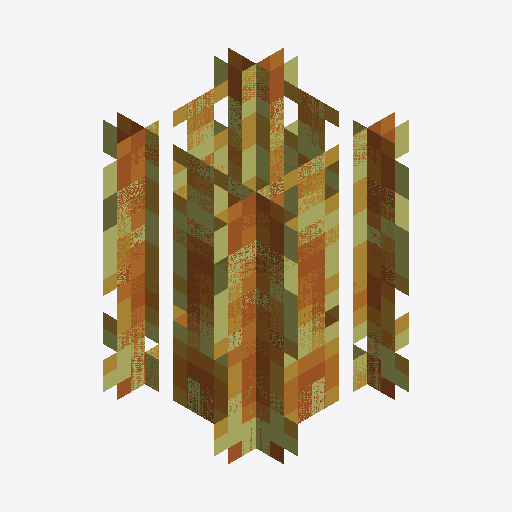
A Minecraft block model of 4 cuboids, rendered isometrically (azimuth 45°, elevation 35.3°) with the resource pack's own textures.
Parts seen in each view (by area): element 1, element 4, element 2, element 3.
Part boxes in pixels (left/top/right/bottom): element 1: left=103, top=112, right=297, bottom=463; element 4: left=214, top=112, right=408, bottom=463; element 2: left=214, top=48, right=408, bottom=399; element 3: left=103, top=48, right=297, bottom=399.
Bounding box in the file's own units: 16 × 16 × 16.